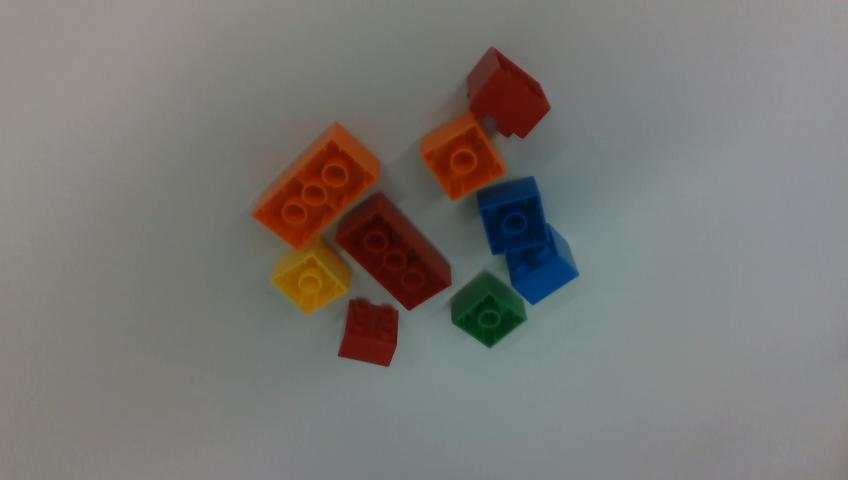2x2_blue: (477, 176, 550, 257), (507, 227, 581, 305)
2x2_green: (452, 271, 526, 347)
2x2_orange: (421, 111, 505, 200)
2x2_red: (467, 48, 550, 137), (339, 298, 397, 365)
2x2_yellow: (272, 236, 349, 313)
4x2_orange: (253, 123, 379, 248)
4x2_red: (336, 193, 451, 309)
